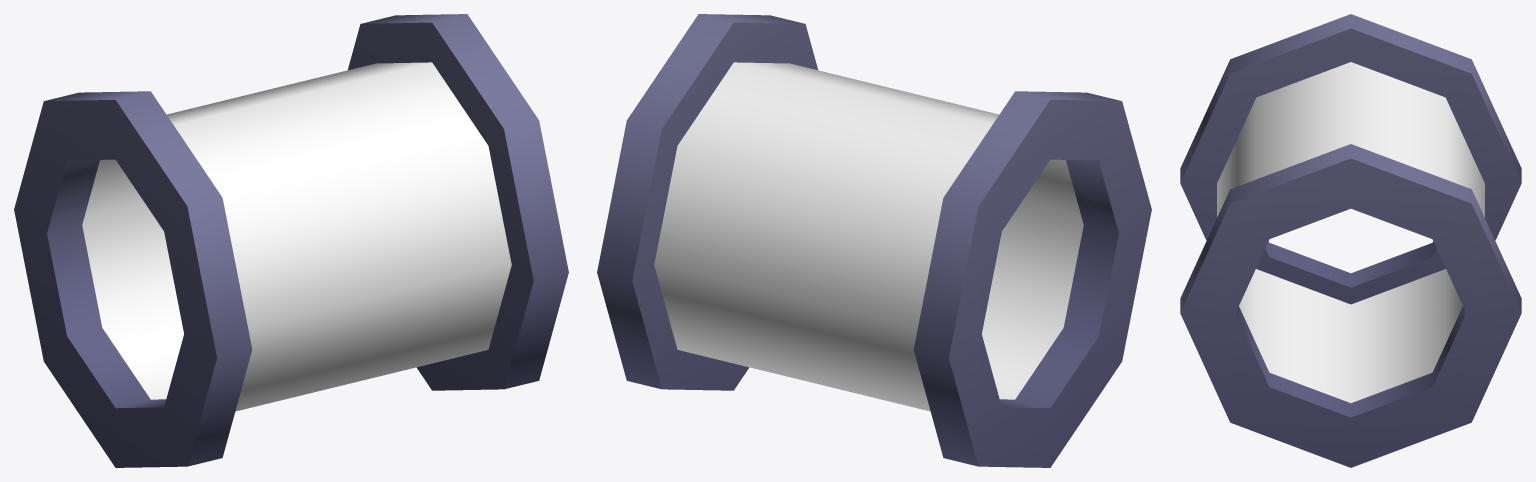
The model's file is pipe-glass-large.glb.
3 views of the same model, side by side, from view 1: azimuth 30°, elevation 25°; view 2: azimuth 150°, elevation 25°; view 3: azimuth 270°, elevation 25° (orthographic). The views are drawn at different scales.
Visible parts, largest first — view 1: pipe-glass-large; view 2: pipe-glass-large; view 3: pipe-glass-large.
Part boxes in pixels (x1,y1,x2,y2): pipe-glass-large: (14,14,568,467); pipe-glass-large: (597,14,1151,467); pipe-glass-large: (1180,14,1521,467).
Size of the model in its own units: 1 by 1 by 1.
